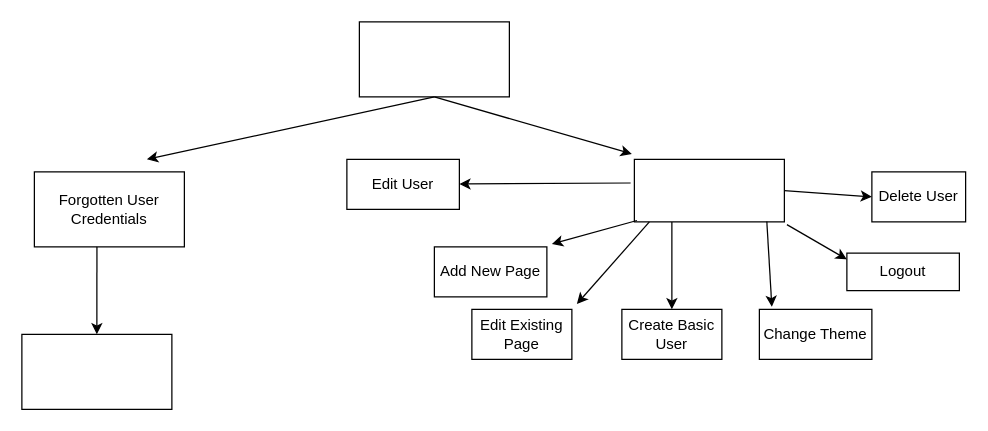
Image size: 988x431. Some labels were removed from this diagram. Each missing label, with the centre of its shape:
Administration site / Landing page: the point at 433,59
Login: the point at 708,190
Retrieve Credentials: the point at 96,371
